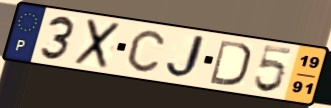3: (37, 15, 76, 62)
5: (252, 43, 294, 94)
C: (125, 29, 167, 74)
D: (208, 38, 253, 89)
J: (164, 34, 211, 81)
X: (71, 17, 124, 71)
